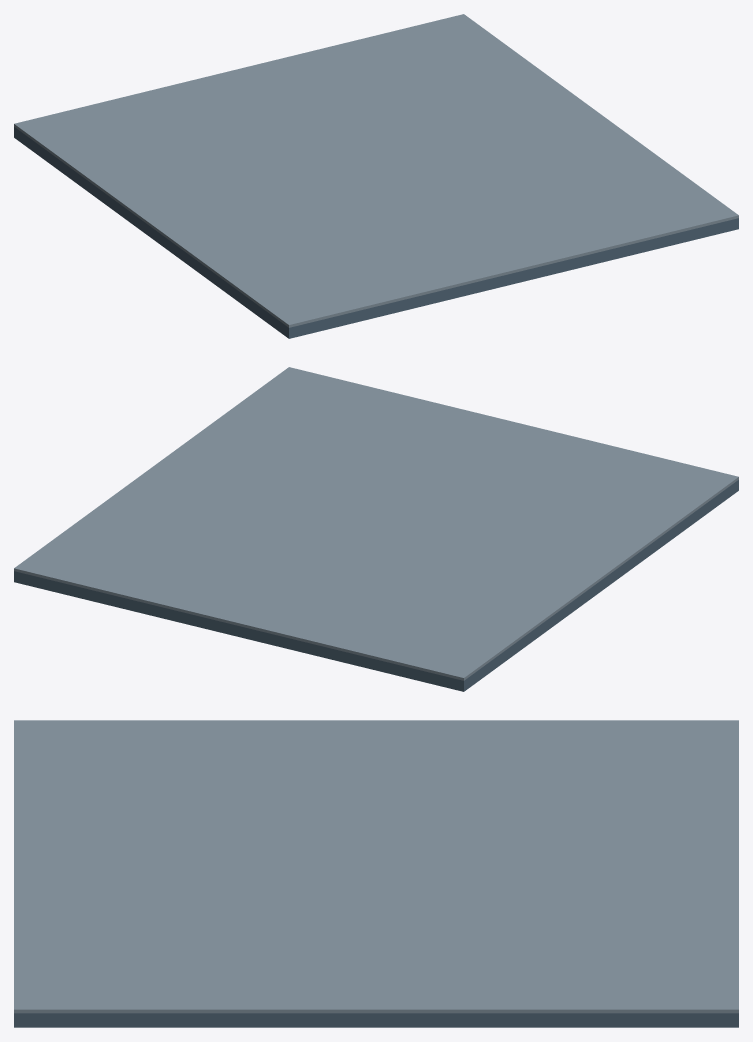
The model's file is TS-632.00.000-27-plita-dielektricheskaya-360x340.glb.
The picture shows the model from 3 angles, top to bottom: view 1: azimuth 30°, elevation 25°; view 2: azimuth 150°, elevation 25°; view 3: azimuth 270°, elevation 25°; orthographic projection. The views are drawn at different scales.
Visible parts, largest first — view 1: prokladka, plita; view 2: prokladka, plita; view 3: prokladka, plita.
Part boxes in pixels (x1,y1,x2,y2): prokladka: (14,14,738,327); plita: (14,127,738,338); prokladka: (14,367,738,680); plita: (14,480,738,691); prokladka: (14,720,738,1013); plita: (14,1013,738,1027).
Size of the model in its own units: 340 by 10 by 360.
